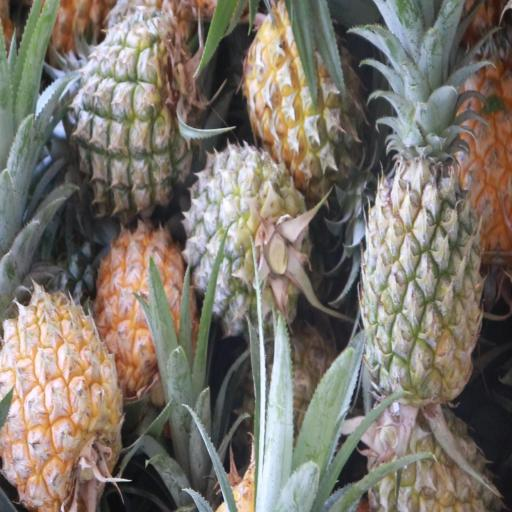------------------------------: (73, 28, 198, 219), (247, 0, 368, 188), (185, 146, 303, 330)
Pineapple - v8 v1: (0, 298, 122, 511), (98, 227, 203, 409)
